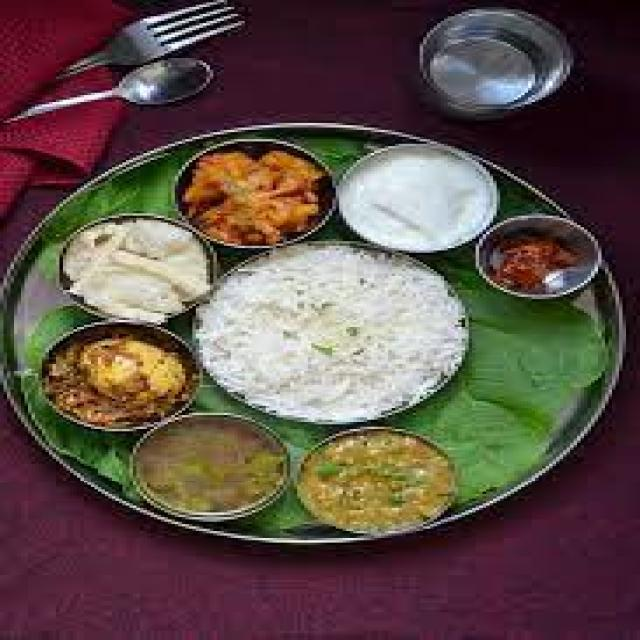curd: (333, 141, 506, 251)
dal: (290, 426, 468, 539)
pickle: (471, 226, 594, 294)
rice: (196, 251, 472, 420)
sambar-rasam: (123, 410, 294, 518)
sweet: (47, 222, 220, 319)
veg-fry: (165, 141, 346, 246)
